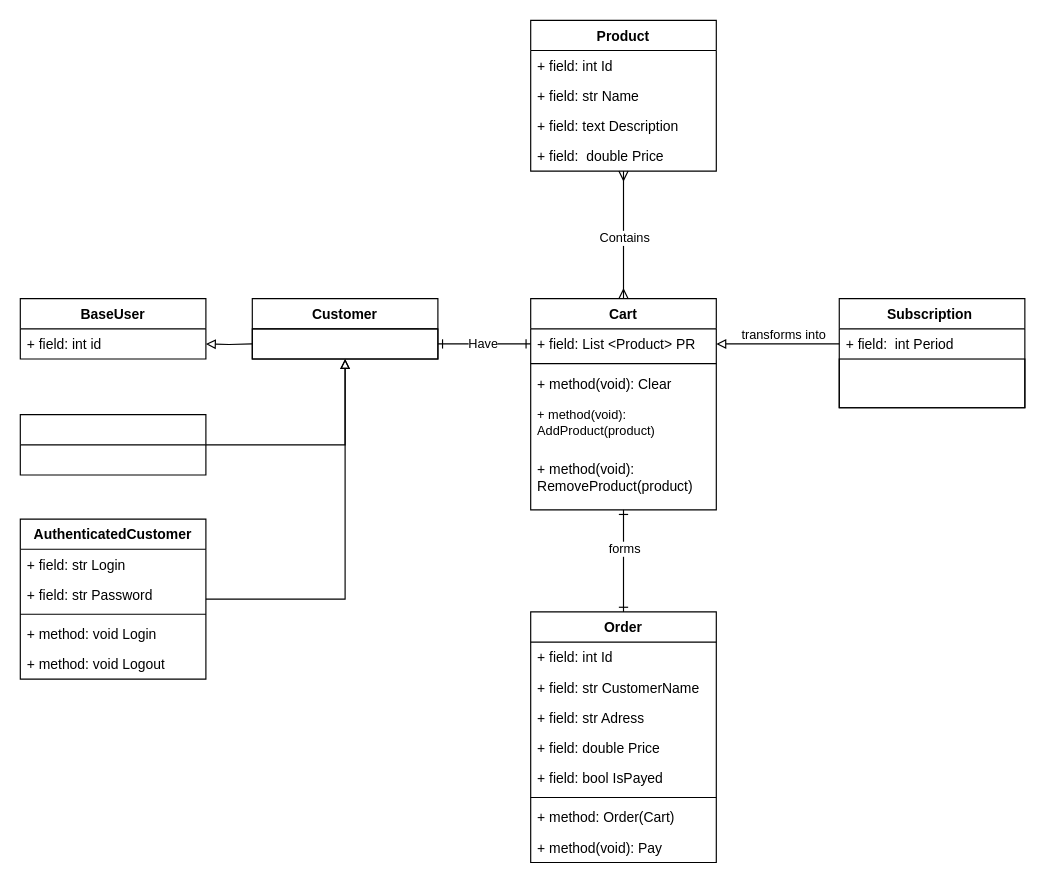
Some shapes in this 1045 by 886 pixel diagram are drawn without their labels. Each missing label, with the centre of its shape:
"+ field: Cart" belongs at point (344, 343).
"+ method: Subscription(Cart cart)" belongs at point (931, 383).
"AnonymousCustomer" belongs at point (112, 444).
